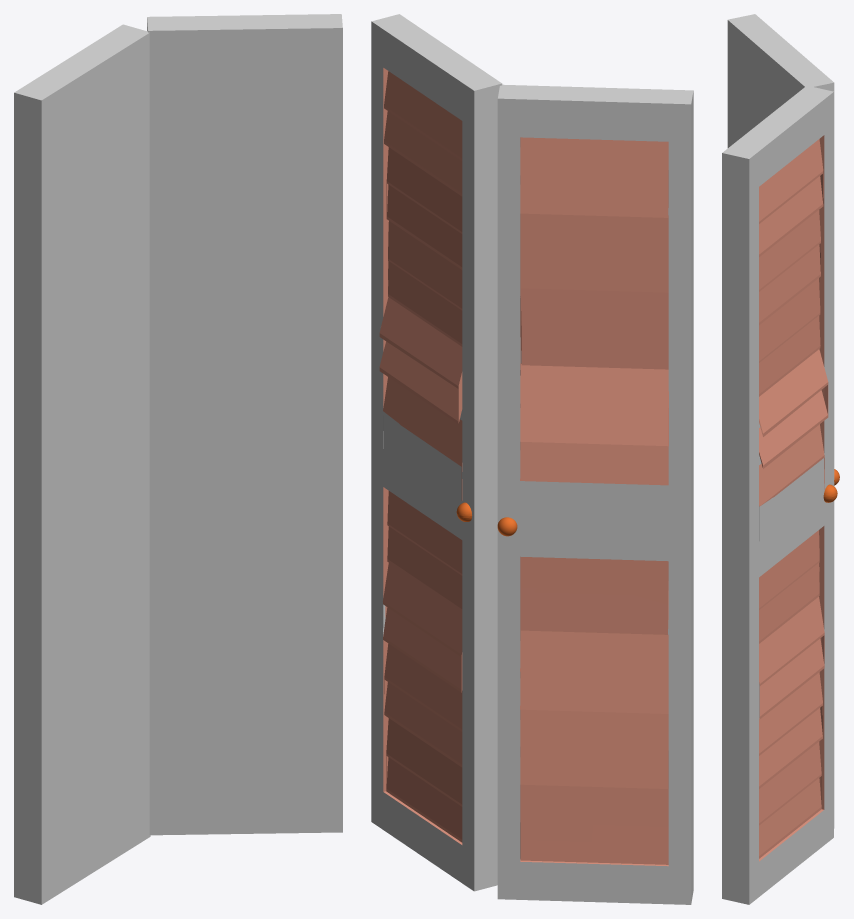
Rendered from closetdoors.fbx.
The picture shows the model from 3 angles, left to right: view 1: azimuth 30°, elevation 25°; view 2: azimuth 150°, elevation 25°; view 3: azimuth 270°, elevation 25°; orthographic projection. The views are drawn at different scales.
Visible parts, largest first — view 1: Cube.001, Sphere.001; view 2: Sphere.001, Cube.001; view 3: Cube.001, Sphere.001.
Part boxes in pixels (x1,y1,x2,y2): Cube.001: (147,14,342,835); Sphere.001: (14,24,150,904); Sphere.001: (497,84,693,904); Cube.001: (371,14,502,891); Cube.001: (722,85,837,904); Sphere.001: (727,14,839,828).
Bounding box in the file's own units: 84.42 × 200 × 28.63.
